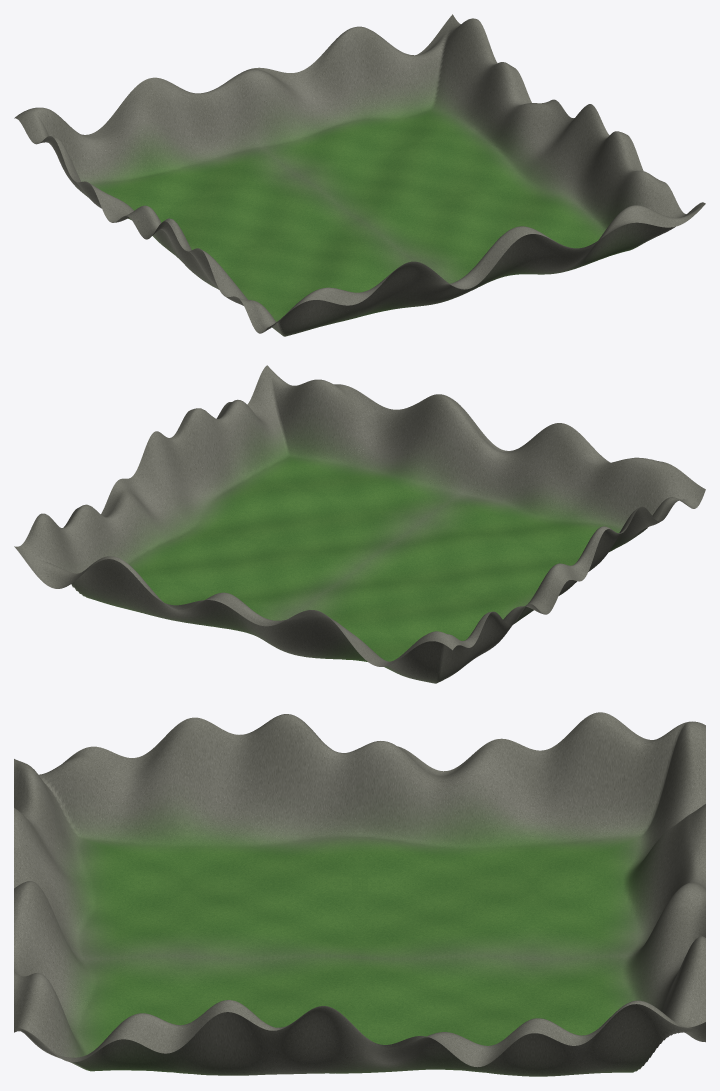
File: Terreno.gltf
3 renders of one model, top to bottom at view 1: azimuth 30°, elevation 25°; view 2: azimuth 150°, elevation 25°; view 3: azimuth 270°, elevation 25°, orthographic. The views are drawn at different scales.
Visible parts, largest first — view 1: Terreno_Limpio_Planeta2; view 2: Terreno_Limpio_Planeta2; view 3: Terreno_Limpio_Planeta2.
Part boxes in pixels (<box>): Terreno_Limpio_Planeta2: <box>14,14,705,336</box>; Terreno_Limpio_Planeta2: <box>14,365,705,683</box>; Terreno_Limpio_Planeta2: <box>14,712,705,1076</box>.
Size of the model in its own units: 600 by 100 by 600.
Materials: 1 (1 with a texture image).
